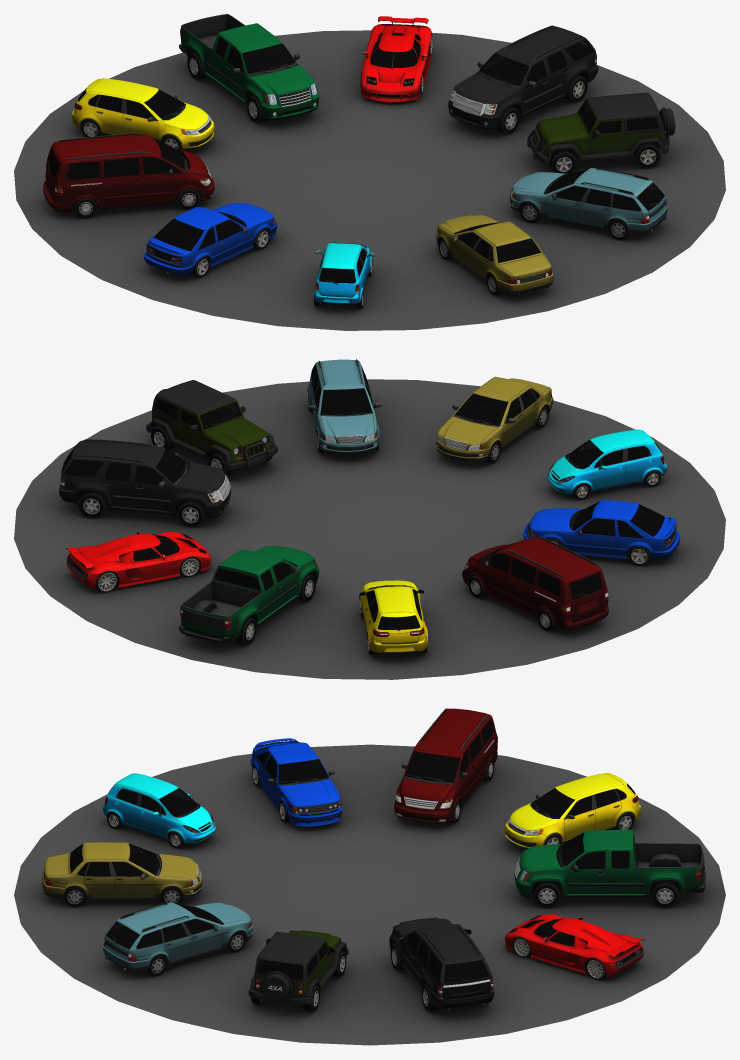
The model's file is car-generic-pack.glb.
The picture shows the model from 3 angles, top to bottom: view 1: azimuth 30°, elevation 25°; view 2: azimuth 150°, elevation 25°; view 3: azimuth 270°, elevation 25°; orthographic projection.
Parts seen in each view (by area): view 1: Cylinder001__0, Compact Body_Glass_0, Wheel_E_Body_0, Pickup Body_Body_0, minivan body_Body_0, Wagon Body_Body_0, Offroad Body_Body_0, Hatchback Body_Body_0, Coupe Body_Body_0, Sedan Body_Body_0, Sport body_Body_0, Compact Body_Body_0 (+7 smaller); view 2: Cylinder001__0, Compact Body_Glass_0, Wheel_E_Body_0, Pickup Body_Body_0, minivan body_Body_0, Offroad Body_Body_0, Coupe Body_Body_0, Sedan Body_Body_0, Wagon Body_Body_0, Sport body_Body_0, Compact Body_Body_0, Hatchback Body_Body_0 (+6 smaller); view 3: Cylinder001__0, Compact Body_Glass_0, Pickup Body_Body_0, Sedan Body_Body_0, Wagon Body_Body_0, Wheel_E_Body_0, minivan body_Body_0, Hatchback Body_Body_0, Coupe Body_Body_0, Offroad Body_Body_0, Sport body_Body_0, Compact Body_Body_0 (+5 smaller).
Boxes of the visible parts, x1,y1,x2,y2 form: Cylinder001__0: [14, 30, 725, 330]; Compact Body_Glass_0: [47, 37, 664, 283]; Wheel_E_Body_0: [448, 25, 598, 130]; Pickup Body_Body_0: [178, 14, 319, 120]; minivan body_Body_0: [43, 133, 214, 211]; Wagon Body_Body_0: [509, 168, 667, 234]; Offroad Body_Body_0: [527, 92, 675, 163]; Hatchback Body_Body_0: [72, 78, 214, 149]; Coupe Body_Body_0: [143, 202, 277, 275]; Sedan Body_Body_0: [436, 215, 553, 295]; Sport body_Body_0: [361, 16, 431, 102]; Compact Body_Body_0: [314, 243, 374, 305]; Cylinder001__0: [14, 379, 725, 679]; Compact Body_Glass_0: [61, 364, 664, 629]; Wheel_E_Body_0: [59, 439, 230, 521]; Pickup Body_Body_0: [178, 545, 319, 644]; minivan body_Body_0: [462, 537, 608, 630]; Offroad Body_Body_0: [146, 380, 277, 470]; Coupe Body_Body_0: [523, 500, 680, 559]; Sedan Body_Body_0: [436, 376, 553, 461]; Wagon Body_Body_0: [307, 359, 381, 453]; Sport body_Body_0: [65, 531, 210, 589]; Compact Body_Body_0: [547, 429, 666, 494]; Hatchback Body_Body_0: [359, 580, 427, 655]; Cylinder001__0: [14, 744, 725, 1045]; Compact Body_Glass_0: [70, 720, 635, 982]; Pickup Body_Body_0: [514, 829, 705, 898]; Sedan Body_Body_0: [42, 842, 203, 900]; Wagon Body_Body_0: [103, 902, 253, 971]; Wheel_E_Body_0: [389, 917, 494, 1011]; minivan body_Body_0: [394, 708, 497, 823]; Hatchback Body_Body_0: [504, 773, 641, 848]; Coupe Body_Body_0: [250, 738, 342, 826]; Offroad Body_Body_0: [248, 930, 348, 1005]; Sport body_Body_0: [504, 914, 644, 977]; Compact Body_Body_0: [102, 773, 215, 844].
Bounding box in the file's own units: 19.27 × 1.76 × 19.27.
Materials: 22 (22 with a texture image).
